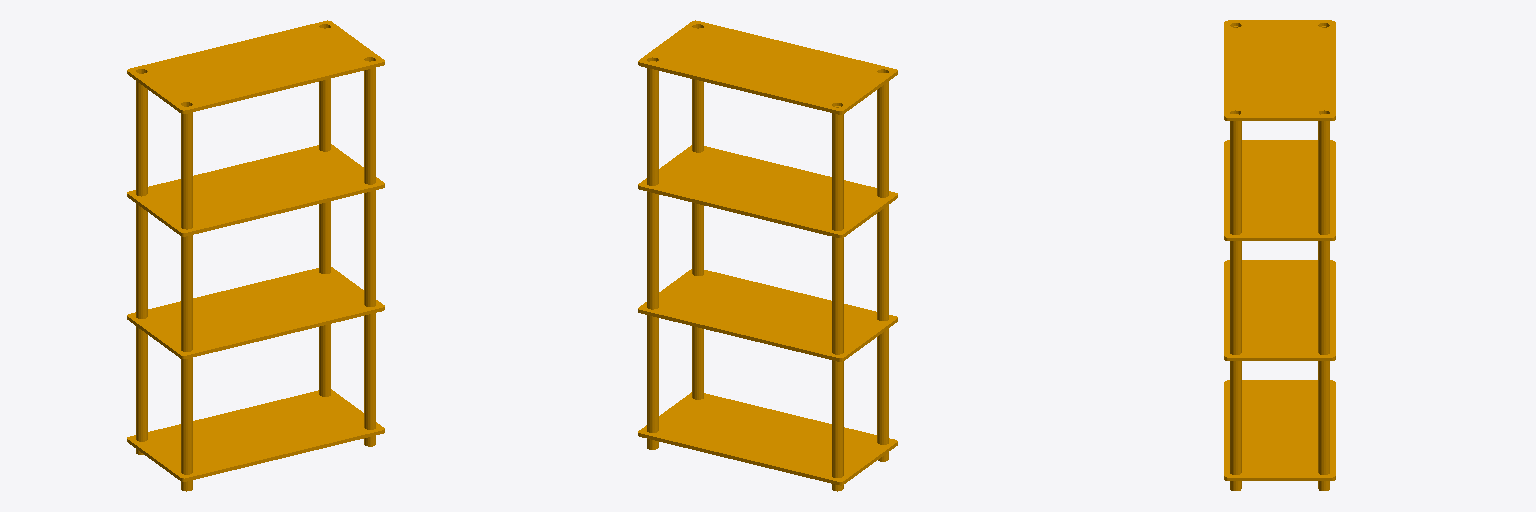
The robot description file, URDF, robot "Rack":
<?xml version="1.0" ?>
<robot name="Rack">

<material name="silver">
  <color rgba="0.76 0.60 0.42 1.000"/>
</material>

<link name="base_link">
  <inertial>
    <origin xyz="-0.019999999999999896 0.03500000000000014 0.5555587668950039" rpy="0 0 0"/>
    <mass value="64.60228133775149"/>
    <inertia ixx="9.56223752505463" iyy="11.412916055809422" izz="2.8814763085617394" ixy="9.020562075079397e-17" iyz="-0.0001228586723074354" ixz="0.00028845079586337086"/>
  </inertial>
  <visual>
    <origin xyz="0 0 0" rpy="0 0 0"/>
    <geometry>
      <mesh filename="meshes/base_link.stl" scale="0.001 0.001 0.001"/>
    </geometry>
    <material name="silver"/>
    <material/>
  </visual>
  <collision concave="yes">
    <origin xyz="0 0 0" rpy="0 0 0"/>
    <geometry>
      <mesh filename="meshes/base_link.stl" scale="0.001 0.001 0.001"/>
    </geometry>
     <contact>
    <soft_cfm value="0.0"/>
      <soft_erp value="0.2"/>
  </contact>
  </collision>
</link>

</robot>

--- What the picture shows (computed from the rendered views, not written in the file) ---
The picture shows the robot from 3 angles, left to right: view 1: azimuth 30°, elevation 25°; view 2: azimuth 150°, elevation 25°; view 3: azimuth 270°, elevation 25°; orthographic projection.
Robot: Rack — 1 links, 0 joints (none); root link base_link; default pose: all joints at 0.
Links seen in each view (by area): view 1: base_link; view 2: base_link; view 3: base_link.
Boxes of the visible links, left/top/right/bottom form: base_link: left=127, top=20, right=384, bottom=491; base_link: left=638, top=20, right=897, bottom=491; base_link: left=1224, top=20, right=1335, bottom=490.
Bounding box of the posed robot: 0.6 × 0.29 × 1.08 m (x, y, z).
1 mesh visuals loaded from 1 distinct referenced files (1 binary STL).